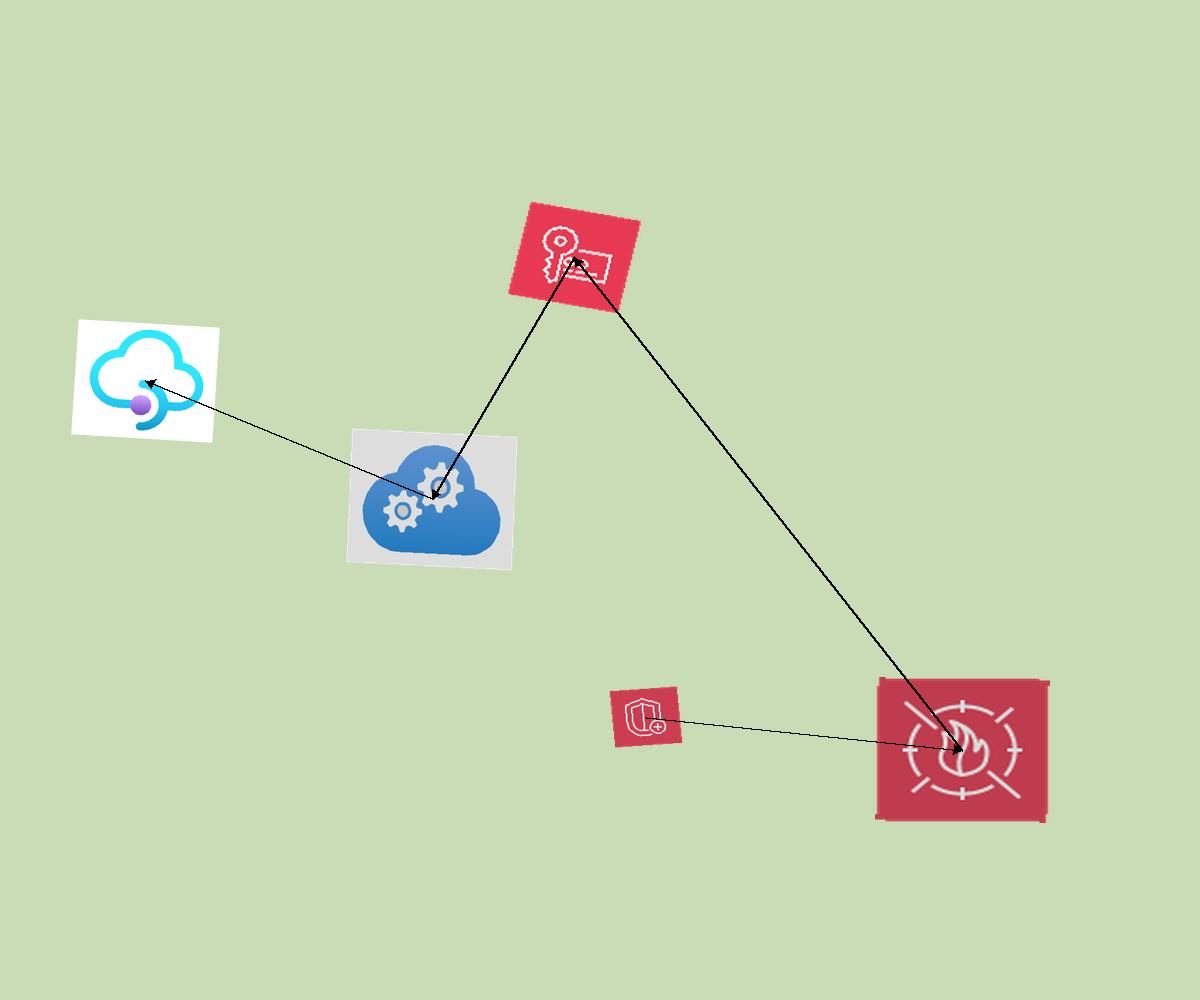AWS-Key-Management-Service: (507, 201, 642, 314)
AWS-Shield: (609, 686, 683, 748)
AWS-WAF: (875, 677, 1050, 823)
Azure_api_gateway: (71, 319, 220, 443)
Azure_cloud_services: (346, 428, 518, 571)
